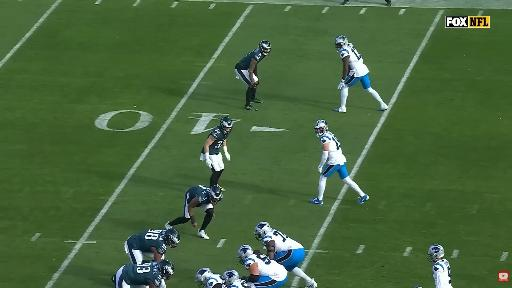Helmet: (157, 260, 174, 280), (255, 222, 271, 241), (196, 268, 212, 286), (164, 228, 179, 247), (238, 245, 253, 264), (428, 245, 444, 262), (222, 270, 239, 286), (220, 116, 233, 134), (315, 119, 328, 137), (210, 185, 222, 204), (335, 36, 347, 51), (259, 40, 271, 55), (229, 280, 251, 287)
Jersey: (244, 254, 287, 281), (122, 261, 163, 287), (127, 229, 167, 255), (340, 43, 369, 77), (263, 230, 303, 252), (321, 132, 346, 165), (235, 49, 265, 70), (209, 126, 229, 154), (187, 185, 211, 207), (433, 259, 451, 287), (207, 274, 225, 287), (230, 280, 250, 287)
Player: (311, 120, 369, 204), (255, 222, 317, 287), (335, 36, 387, 112), (166, 186, 222, 239), (235, 40, 270, 110), (200, 117, 232, 186), (238, 245, 287, 287), (125, 228, 179, 263), (112, 260, 174, 287), (428, 245, 451, 287), (196, 268, 226, 287), (222, 270, 239, 286), (229, 280, 251, 287)
